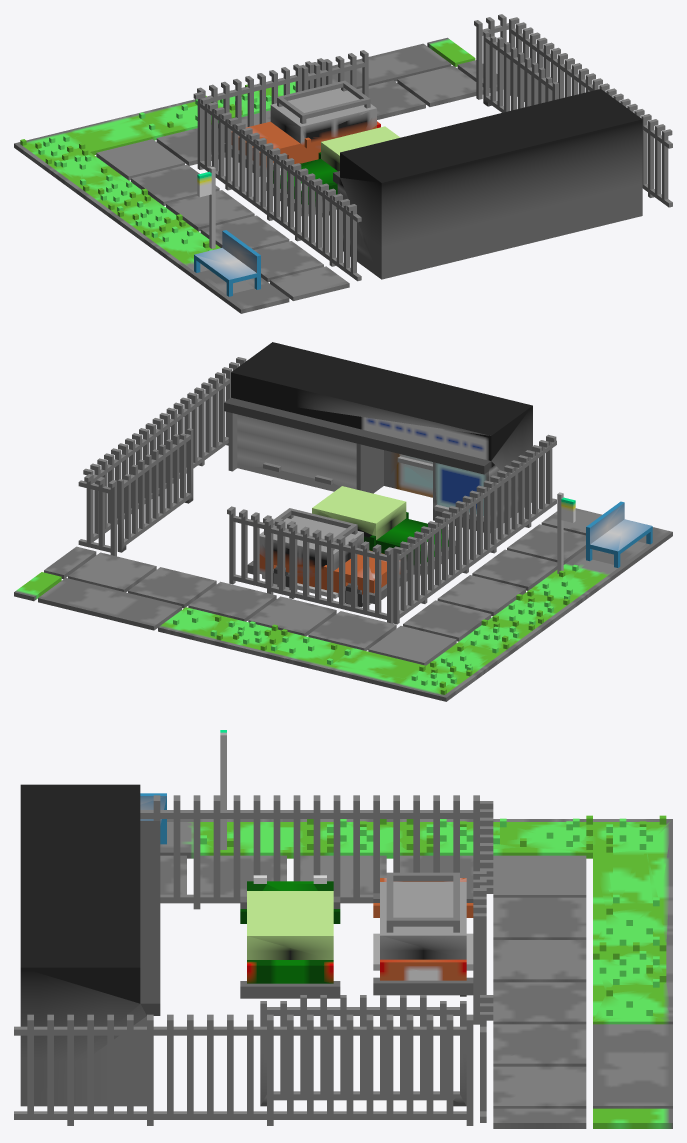
The model's file is scene_corp.dae.
The picture shows the model from 3 angles, top to bottom: view 1: azimuth 30°, elevation 25°; view 2: azimuth 150°, elevation 25°; view 3: azimuth 270°, elevation 25°; orthographic projection. The views are drawn at different scales.
Parts seen in each view (by area): view 1: scene_corp; view 2: scene_corp; view 3: scene_corp.
Part boxes in pixels (bbox=[...]): scene_corp: bbox=[14, 14, 672, 313]; scene_corp: bbox=[14, 342, 672, 701]; scene_corp: bbox=[14, 730, 672, 1128].
Size of the model in its own units: 10.8 by 9.9 by 2.3.
